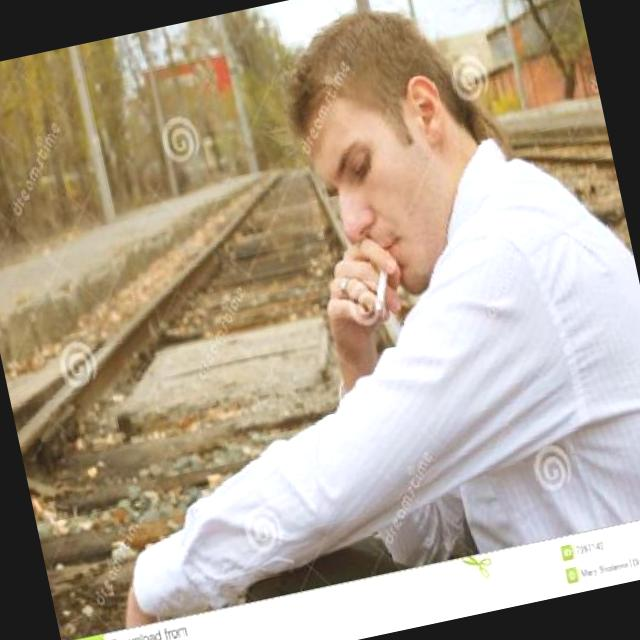smoke: (366, 266, 396, 316)
